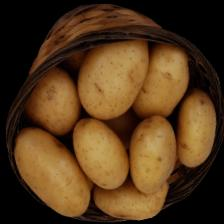potato: (6, 115, 96, 224), (65, 26, 163, 126), (116, 34, 200, 126), (66, 108, 135, 196), (87, 155, 175, 224), (116, 110, 186, 196), (162, 83, 224, 171)
